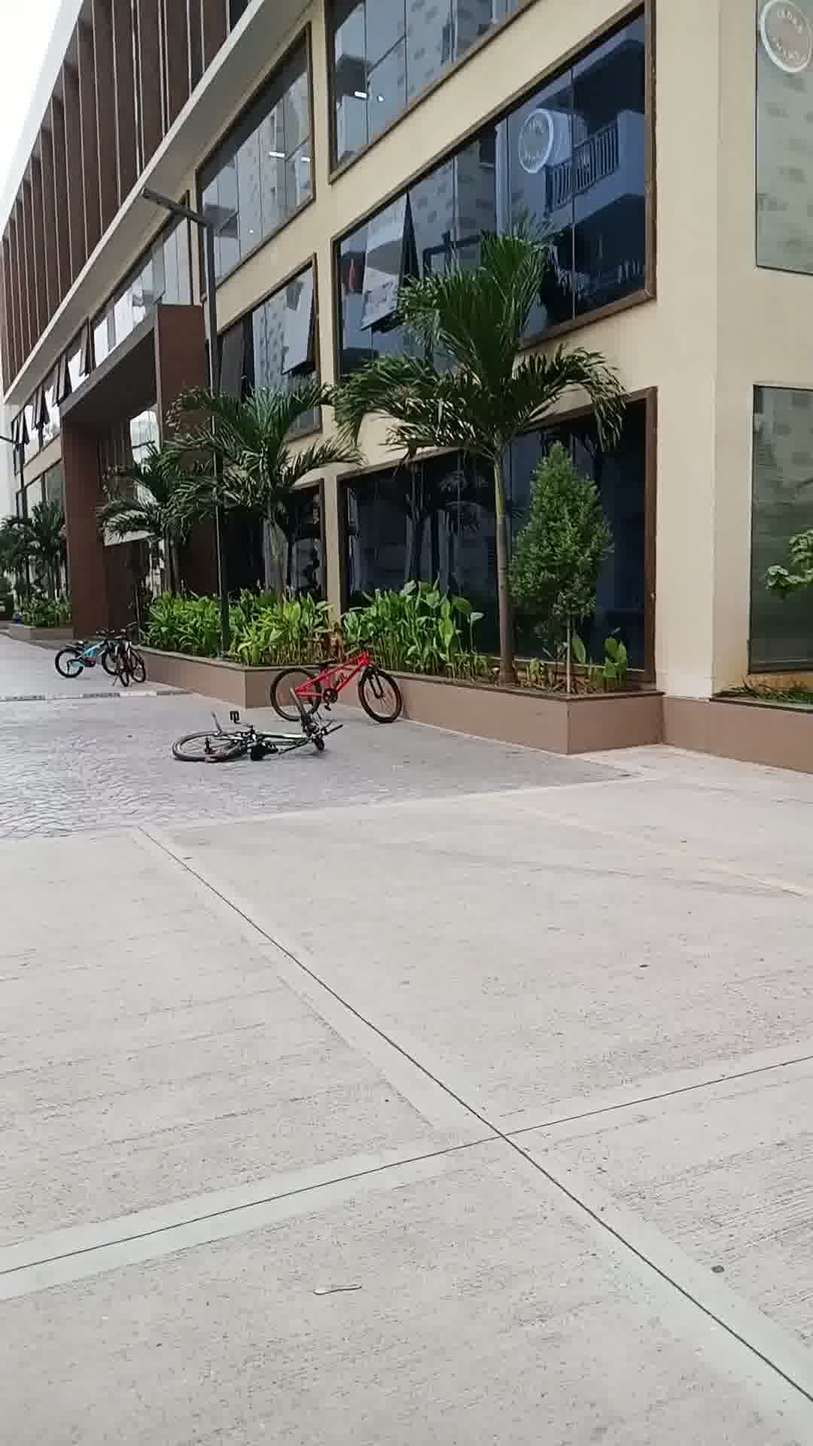bicycle: (268, 625, 413, 727), (164, 704, 343, 766), (56, 611, 164, 701)
tree: (334, 227, 638, 686), (158, 361, 343, 655), (96, 435, 224, 631), (6, 491, 68, 625)
